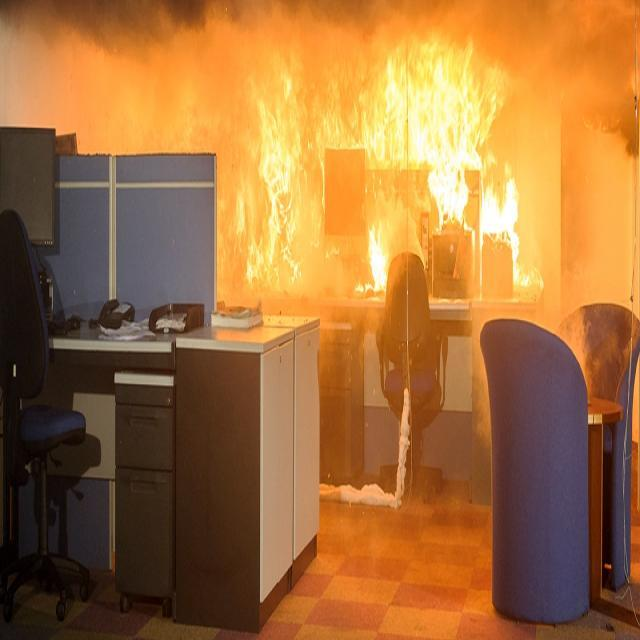Fire: (216, 29, 544, 290), (124, 80, 217, 154)
Smoke: (507, 2, 640, 158), (0, 0, 207, 58), (207, 0, 508, 34), (0, 0, 47, 127), (564, 310, 600, 398)
